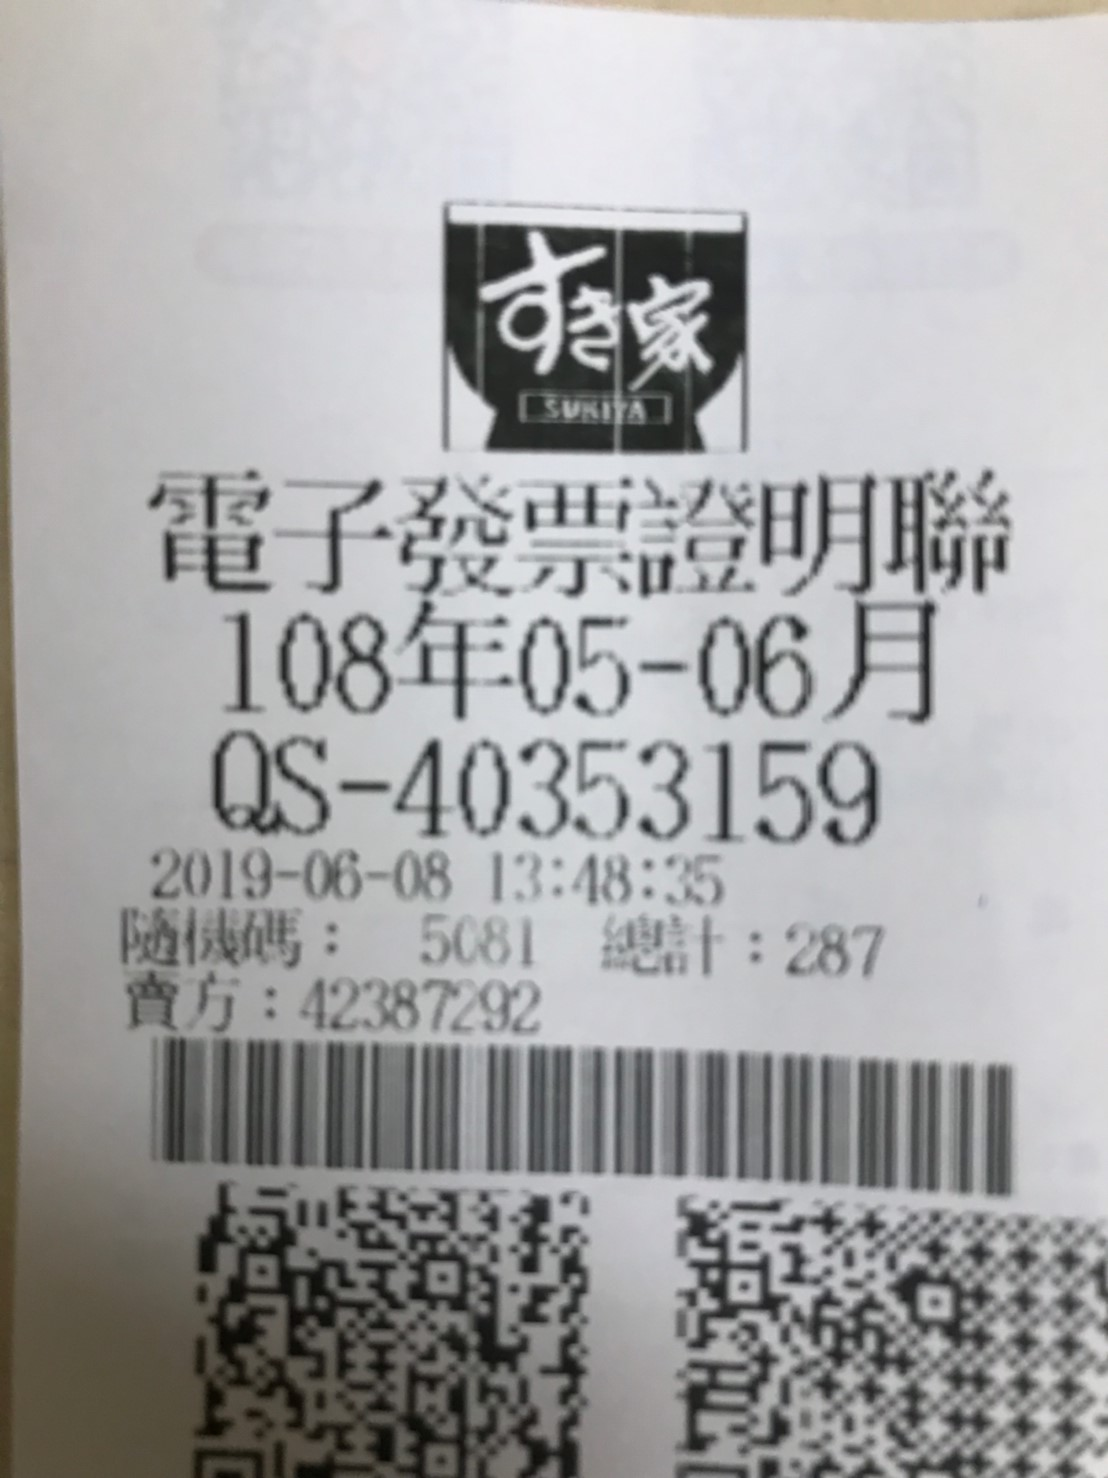Date_New: (225, 602, 940, 725)
Number_New: (393, 736, 882, 853)
